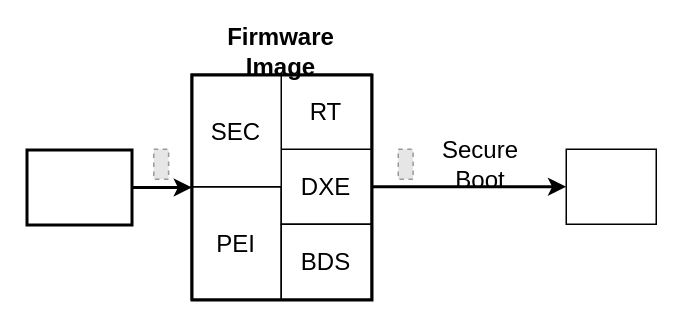
Image size: 683x327. Some labels were removed from this diagram. Grey dashed boxes stand in for pictures. The box of each missing label's shape, as (x1, y1, x2, y2) in pixels:
Apple T2 (HRoT): (25, 148, 133, 226)
OS Loader: (565, 148, 656, 224)
